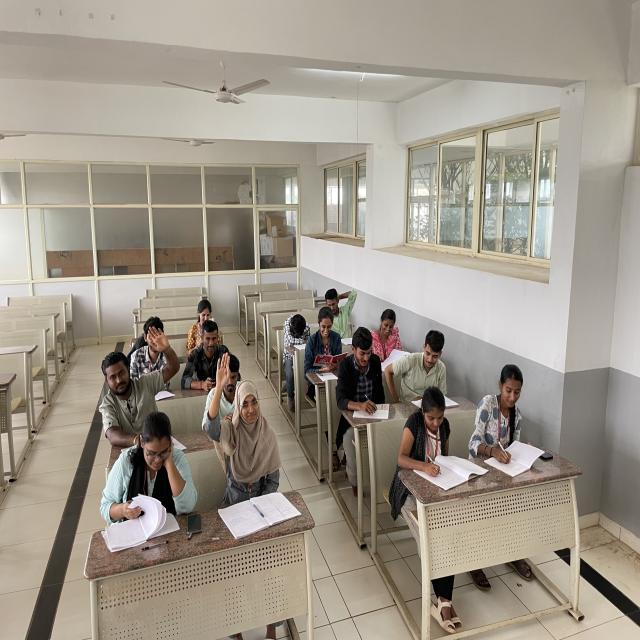Hand Rising: (202, 353, 278, 488), (86, 323, 180, 424)
Reading: (79, 405, 184, 546), (394, 324, 455, 416), (371, 297, 412, 368), (306, 308, 348, 371)
Sleeping: (272, 304, 314, 363)
Writing: (392, 384, 482, 510), (464, 340, 539, 483), (334, 325, 390, 426)
